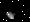person: (7, 6, 17, 19)
